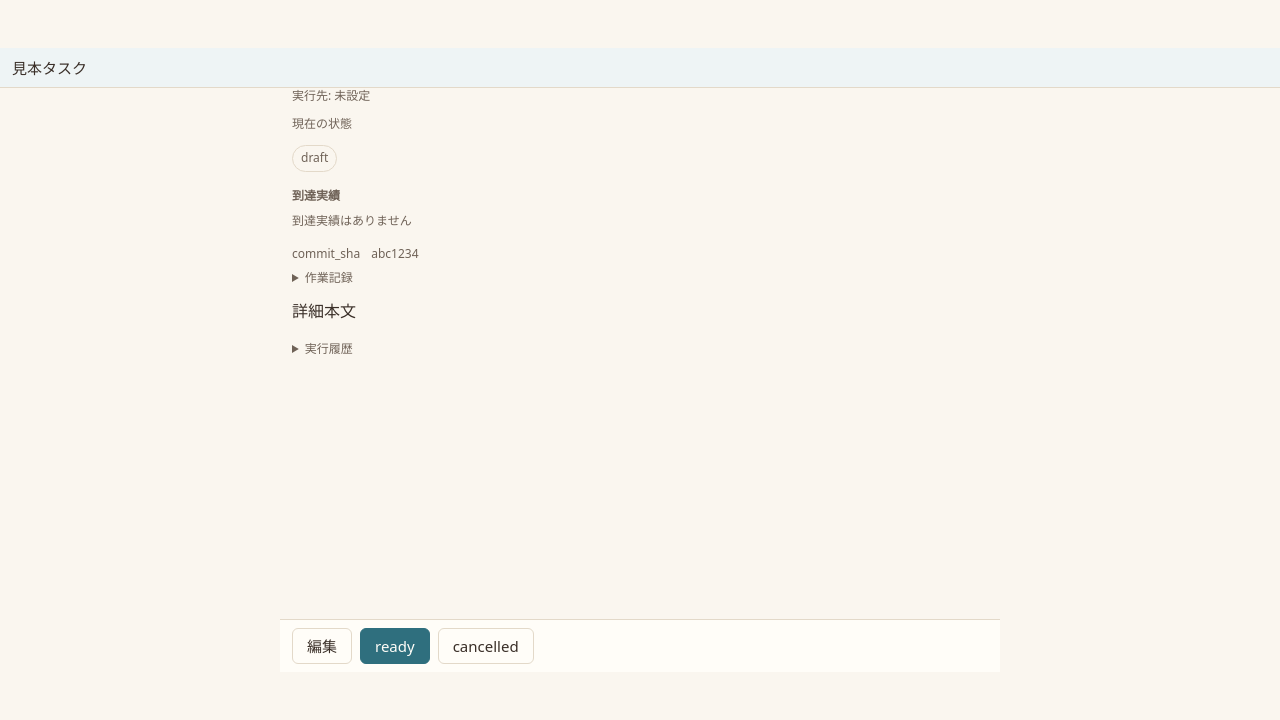
Detail › loads a task card and posts a status transition then reloads
Expected: the heading "見本タスク" is shown, top-left (12, 58), bottom-right (87, 76)
Expected: the text "詳細本文" is shown, top-left (292, 300), bottom-right (356, 322)
Click the button "ready": click(395, 646) top-left (360, 628), bottom-right (430, 664)
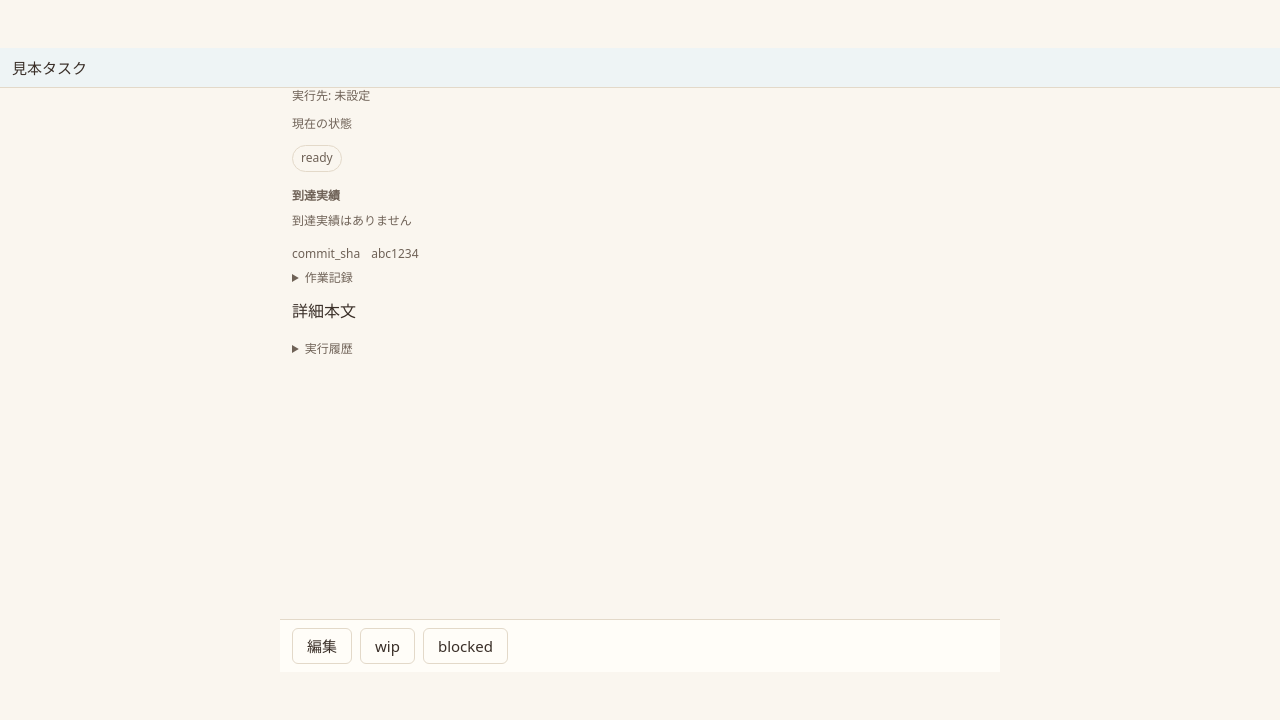
Expected: the button "wip" is shown, top-left (360, 628), bottom-right (415, 664)
Expected: the button "cancelled" is gone
